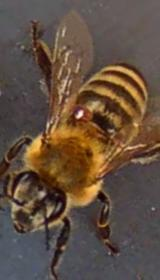varroa_mite: (62, 96, 96, 130)
